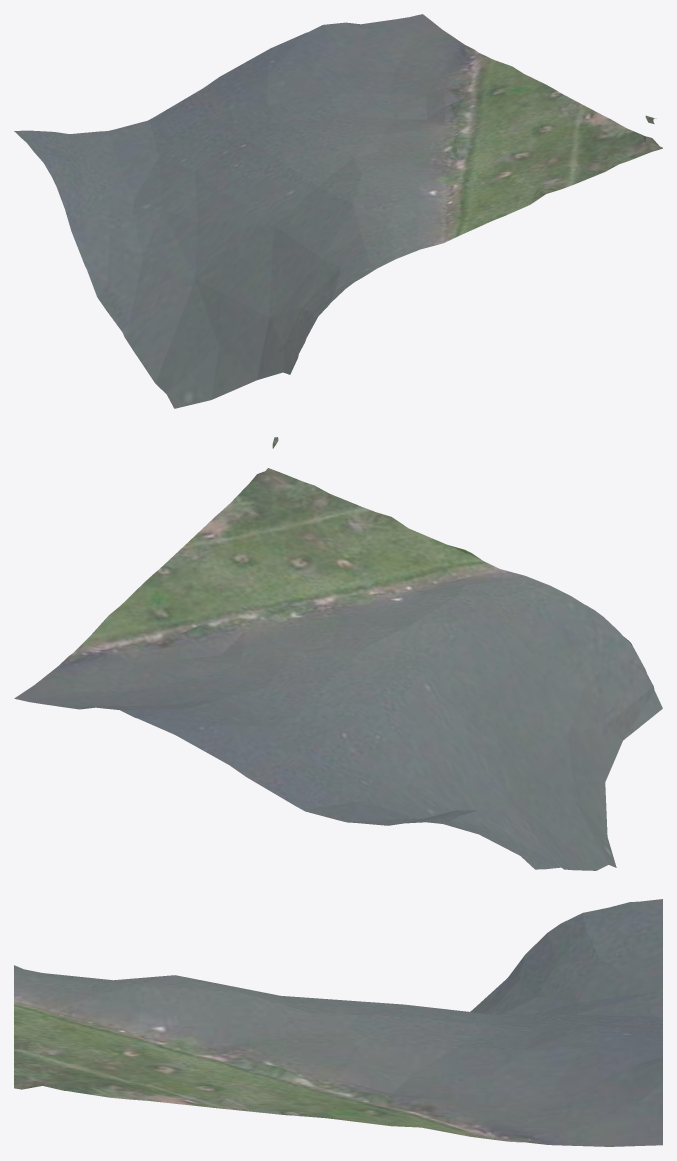
The model's file is Tile_+001_+007_L20_000200.glb.
The picture shows the model from 3 angles, top to bottom: view 1: azimuth 30°, elevation 25°; view 2: azimuth 150°, elevation 25°; view 3: azimuth 270°, elevation 25°; orthographic projection. The views are drawn at different scales.
Parts seen in each view (by area): view 1: rtc; view 2: rtc; view 3: rtc.
Boxes of the visible parts, x1,y1,x2,y2 form: rtc: [14, 14, 662, 408]; rtc: [14, 437, 662, 870]; rtc: [14, 899, 662, 1146].
Bounding box in the file's own units: 25.25 × 14.83 × 25.69.
Materials: 1 (1 with a texture image).
